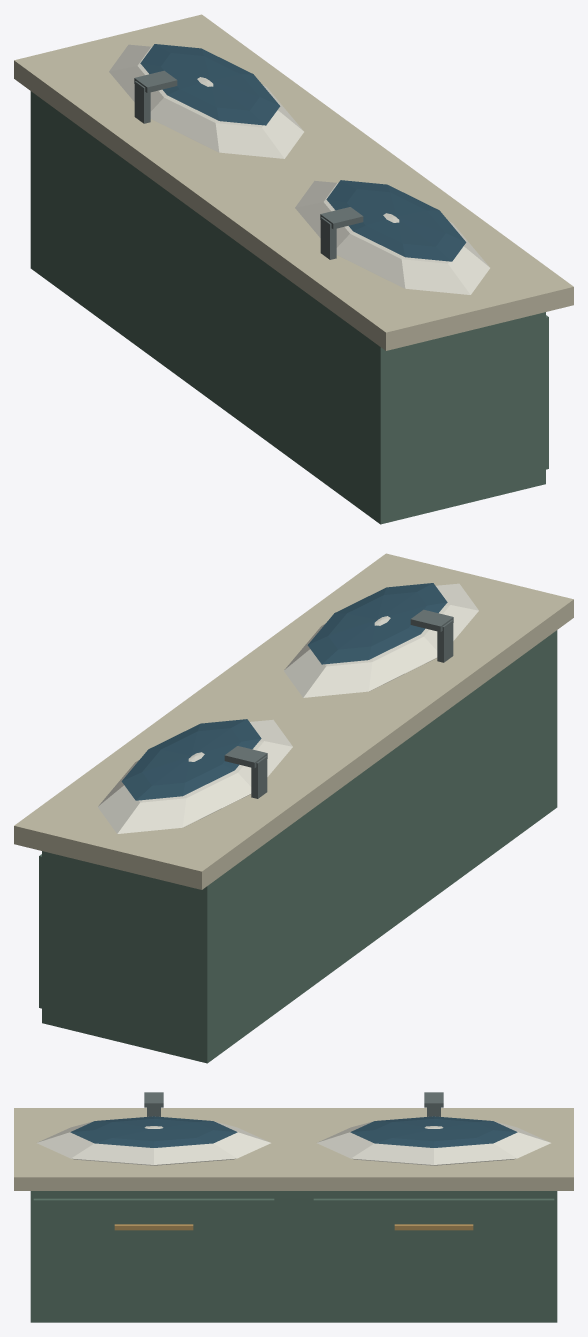
File: LP_StaffToilet_SinkCounter.fbx
3 views of the same model, one above another, from view 1: azimuth 30°, elevation 25°; view 2: azimuth 150°, elevation 25°; view 3: azimuth 270°, elevation 25° (orthographic). The views are drawn at different scales.
Visible parts, largest first — view 1: SageUpholstery, M_Central_Limestone, M_Museum_Porcelain, M_Museum_DeepBlue, M_Museum_BrushedMetal; view 2: SageUpholstery, M_Central_Limestone, M_Museum_Porcelain, M_Museum_DeepBlue, M_Museum_BrushedMetal; view 3: SageUpholstery, M_Central_Limestone, M_Museum_Porcelain, M_Museum_DeepBlue, AgedBrass, M_Museum_BrushedMetal.
Boxes of the visible parts, box(x1,y1,x2,y2) form: SageUpholstery: box(30, 91, 548, 524); M_Central_Limestone: box(14, 14, 573, 350); M_Museum_Porcelain: box(109, 44, 489, 294); M_Museum_DeepBlue: box(140, 44, 466, 261); M_Museum_BrushedMetal: box(134, 70, 363, 259); SageUpholstery: box(39, 630, 557, 1063); M_Central_Limestone: box(14, 553, 573, 889); M_Museum_Porcelain: box(98, 583, 478, 833); M_Museum_DeepBlue: box(121, 583, 447, 800); M_Museum_BrushedMetal: box(224, 609, 453, 798); SageUpholstery: box(30, 1191, 557, 1322); M_Central_Limestone: box(14, 1108, 573, 1190); M_Museum_Porcelain: box(37, 1117, 550, 1165); M_Museum_DeepBlue: box(70, 1116, 517, 1147); AgedBrass: box(114, 1224, 473, 1230); M_Museum_BrushedMetal: box(144, 1092, 443, 1116).
Bounding box in the file's own units: 70 × 85 × 240.
